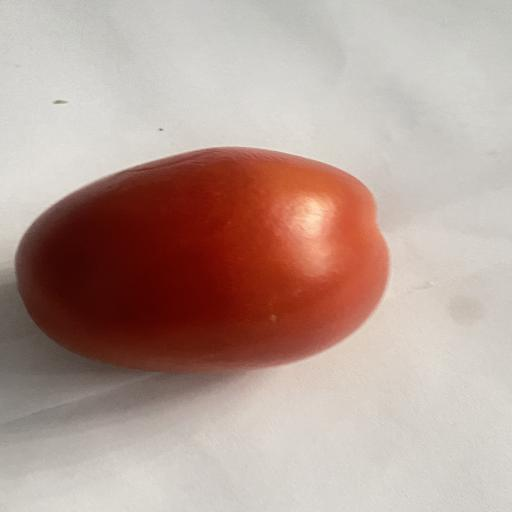overipe: (16, 147, 389, 371)
